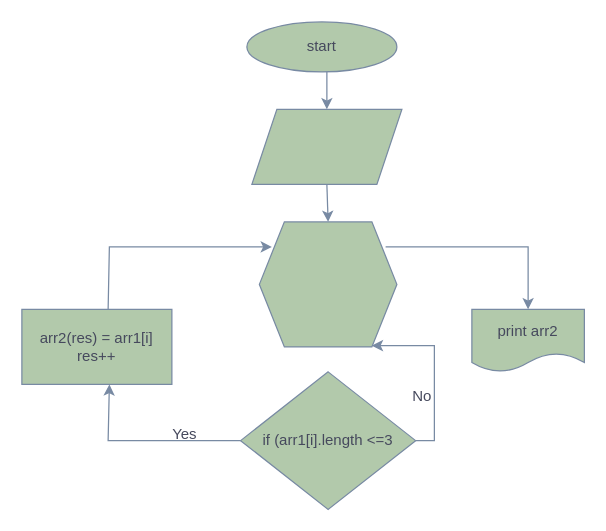
Image size: 606x531. Some labels were removed from this diagram. Each missing label, with the box of its shape:
for (int i = 0; i < arr1.length; i++: (258, 221, 397, 347)
string[ ] arr1 string[ ] arr2 int res = 0: (251, 108, 402, 184)
